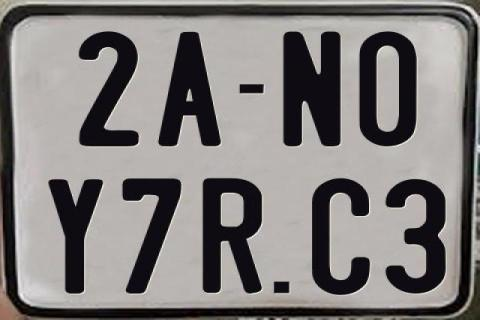0: (76, 31, 142, 151), (386, 177, 451, 297), (122, 176, 187, 293), (357, 29, 418, 148)
A: (156, 31, 220, 147)
C: (310, 178, 374, 298)
N: (283, 31, 342, 148)
R: (201, 177, 264, 293)
Y: (47, 180, 102, 296)
